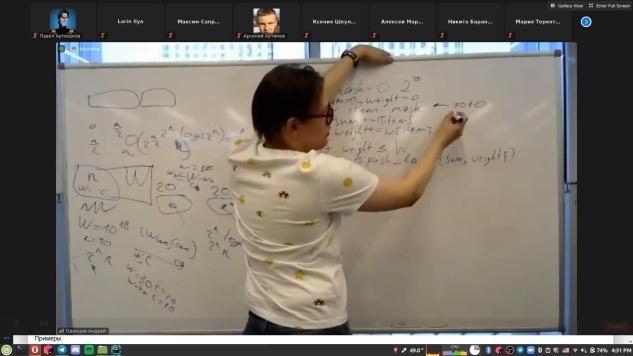Whiteboard: (58, 48, 564, 332)
